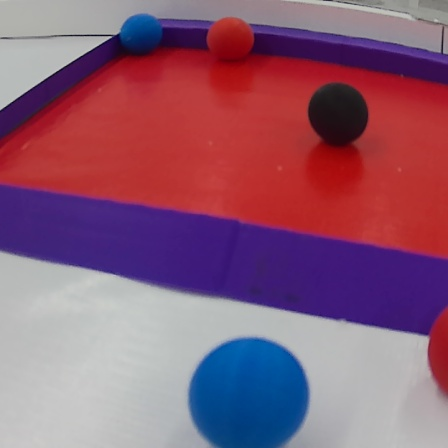black: (305, 80, 374, 147)
blue: (184, 335, 315, 444), (118, 13, 164, 57)
red: (204, 13, 254, 68)
red_aim: (2, 8, 448, 338)
